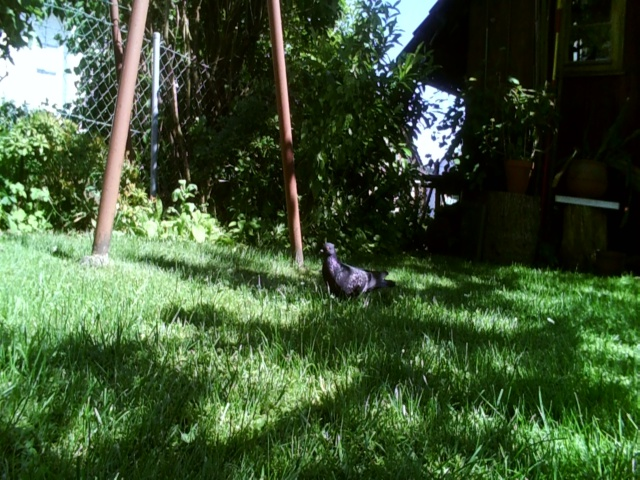Pigeon: (313, 238, 410, 306)
